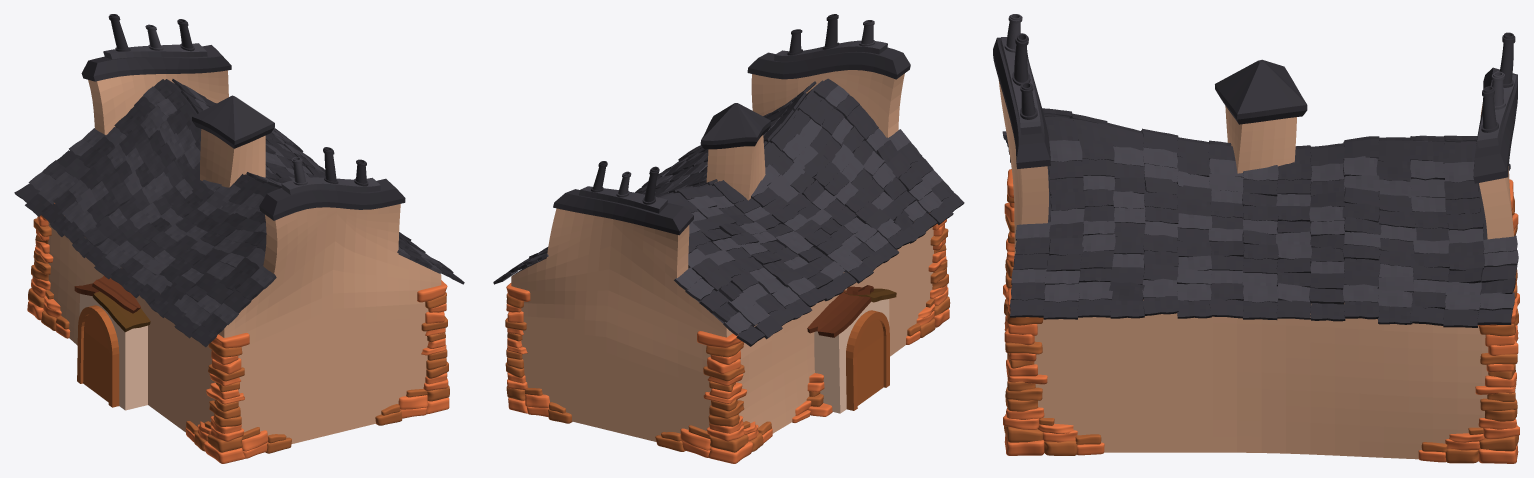
Rendered from potatoHouse.fbx.
The picture shows the model from 3 angles, left to right: view 1: azimuth 30°, elevation 25°; view 2: azimuth 150°, elevation 25°; view 3: azimuth 270°, elevation 25°; orthographic projection. The views are drawn at different scales.
Visible parts, largest first — view 1: Cube.032, Cube.001; view 2: Cube.032, Cube.001; view 3: Cube.032, Cube.001.
Boxes of the visible parts, bbox=[...] form: Cube.032: bbox=[14, 14, 464, 463]; Cube.001: bbox=[192, 95, 274, 187]; Cube.032: bbox=[493, 14, 964, 463]; Cube.001: bbox=[700, 103, 771, 200]; Cube.032: bbox=[993, 14, 1519, 463]; Cube.001: bbox=[1215, 59, 1307, 173].
Size of the model in its own units: 920 by 884 by 1192.
